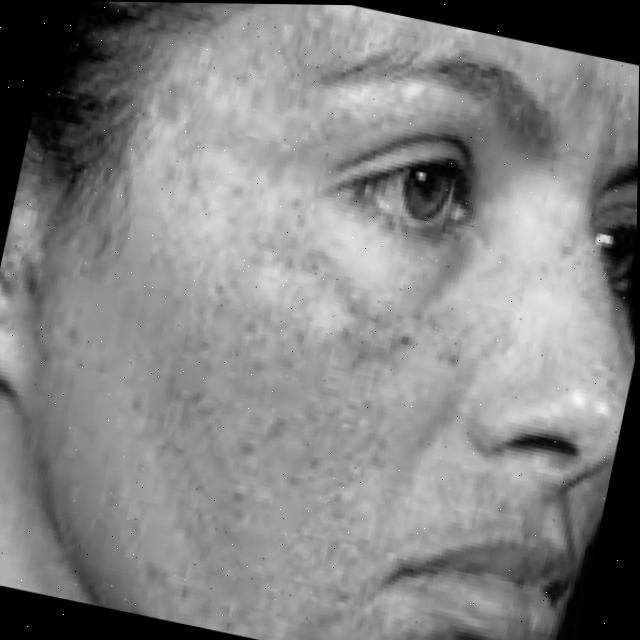Melasma: (208, 236, 453, 359)
